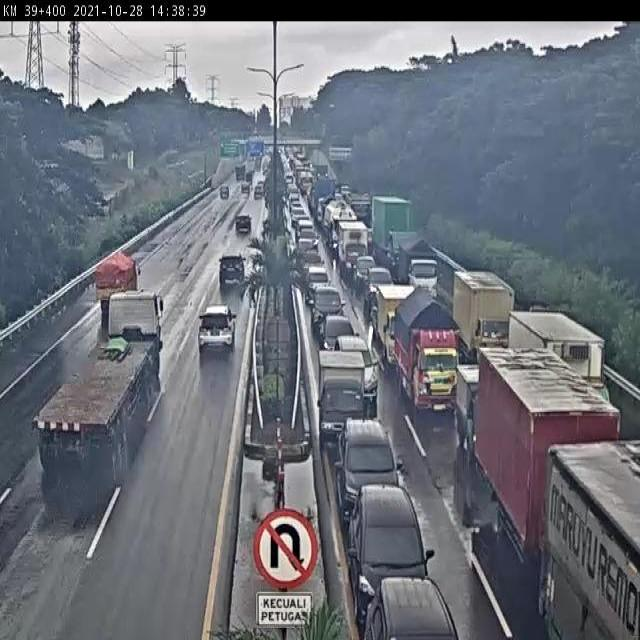big truck: (482, 352, 622, 577), (31, 292, 157, 501), (544, 444, 638, 633)
car: (355, 484, 427, 580), (342, 408, 419, 489), (373, 580, 450, 640), (333, 332, 384, 405), (323, 314, 362, 362), (315, 290, 348, 326), (305, 271, 338, 301), (367, 267, 388, 292), (236, 215, 255, 242)
small truck: (512, 311, 623, 440), (394, 286, 454, 406), (453, 270, 519, 366), (380, 281, 438, 364), (320, 352, 367, 436), (91, 248, 145, 303), (395, 238, 443, 294), (197, 302, 235, 354), (215, 250, 244, 290)
